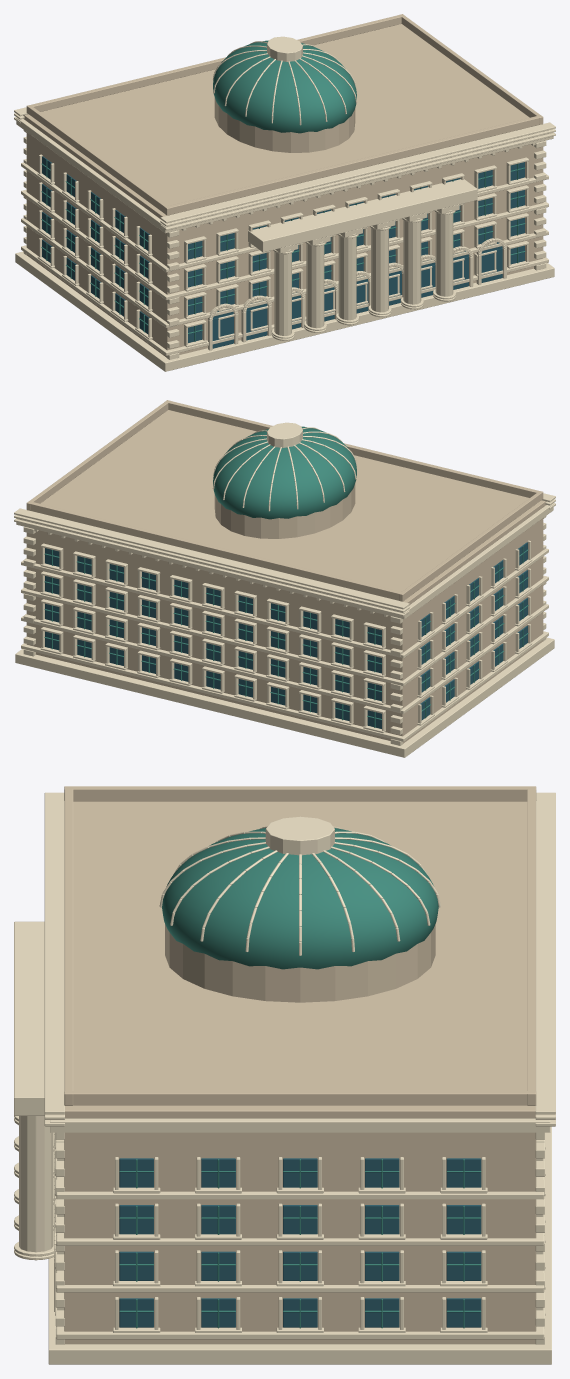
Rendered from hsbc-building.glb.
3 renders of one model, top to bottom at view 1: azimuth 30°, elevation 25°; view 2: azimuth 150°, elevation 25°; view 3: azimuth 270°, elevation 25°, orthographic. The views are drawn at different scales.
Parts seen in each view (by area): view 1: hsbc-building; view 2: hsbc-building; view 3: hsbc-building.
Boxes of the visible parts, x1=… form: hsbc-building: x1=14, y1=14, x2=555, y2=371; hsbc-building: x1=14, y1=400, x2=555, y2=757; hsbc-building: x1=14, y1=786, x2=555, y2=1364.
Size of the model in its own units: 83.48 by 46 by 59.96.
